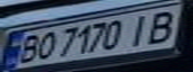0: (103, 16, 133, 51)
1: (75, 24, 93, 55)
7: (87, 20, 112, 53), (54, 25, 78, 57)
B: (139, 8, 190, 44), (12, 32, 45, 65)
I: (121, 11, 163, 47)
O: (30, 29, 60, 61)
